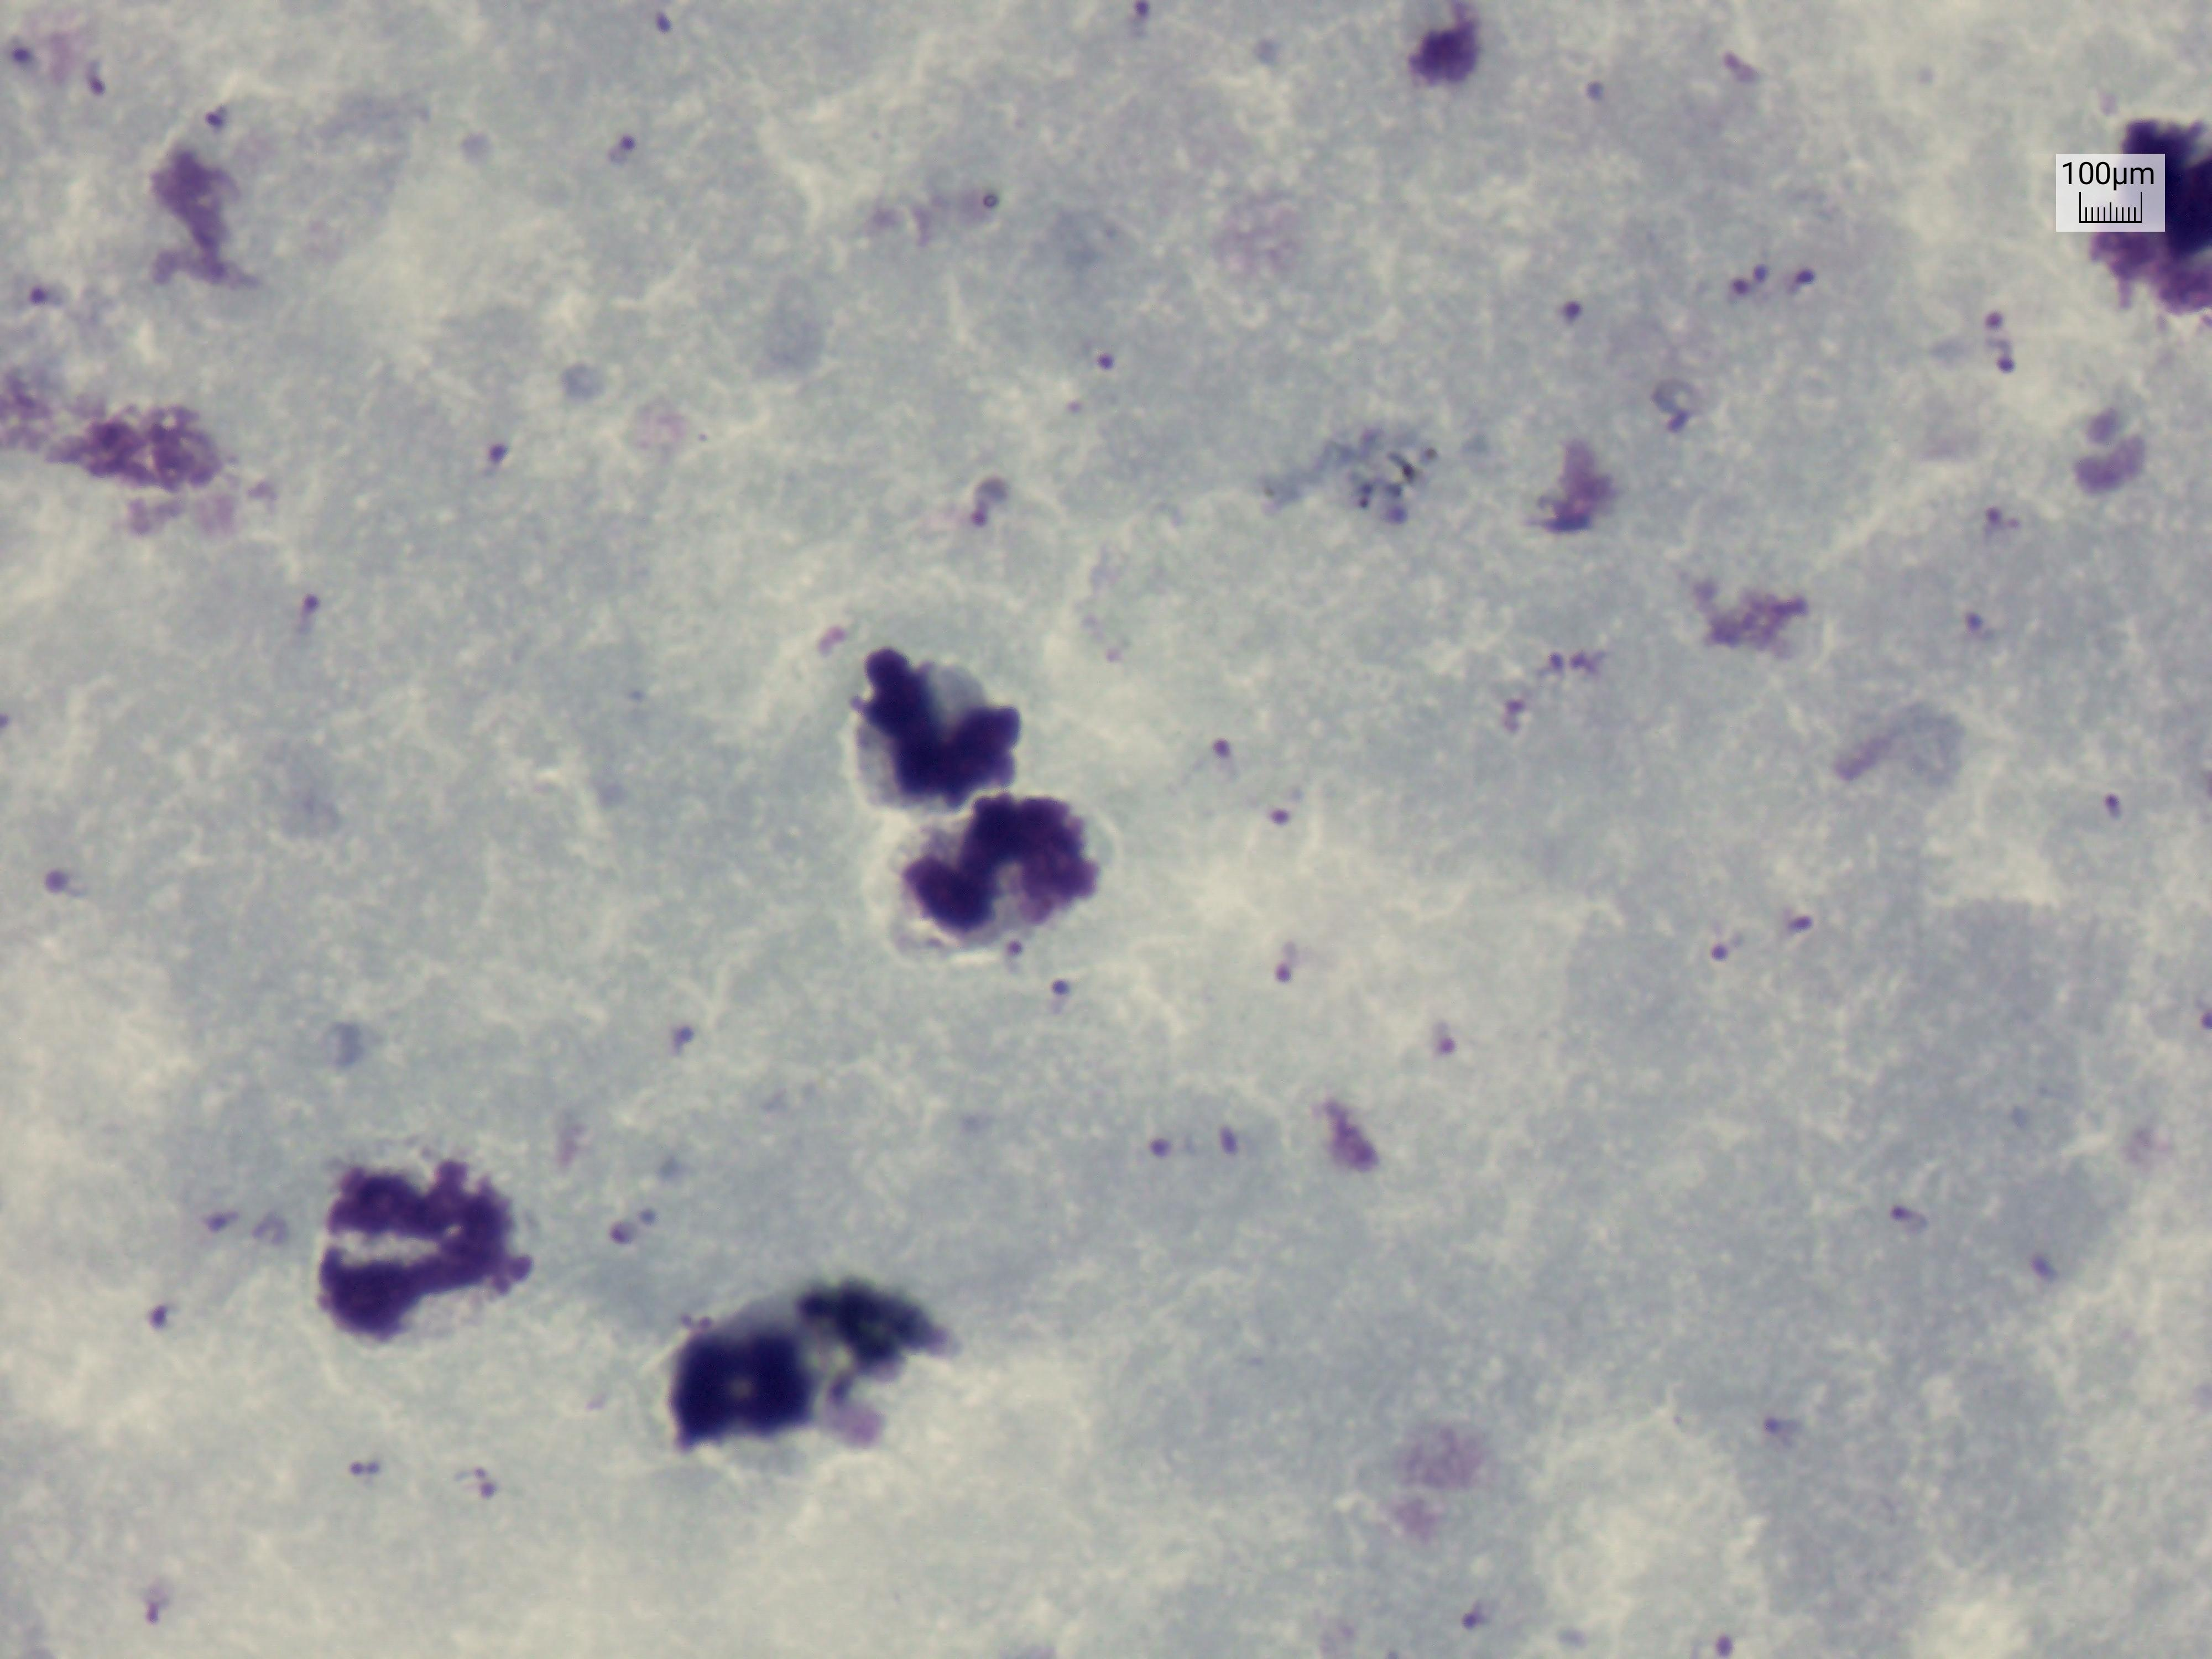p.falciparum: (970, 913, 1104, 1037), (279, 540, 361, 652), (1700, 239, 1834, 307), (1059, 319, 1153, 411), (589, 1173, 683, 1263), (1700, 1565, 1780, 1659), (1646, 335, 1710, 451), (1867, 1162, 1940, 1263), (1458, 678, 1550, 756), (1972, 281, 2034, 396), (1432, 1565, 1515, 1642), (1740, 1385, 1811, 1473), (592, 108, 658, 199), (1977, 479, 2043, 568), (1538, 615, 1608, 699), (961, 139, 1019, 240), (1693, 918, 1754, 1012), (951, 465, 1022, 544), (171, 78, 240, 157), (653, 999, 712, 1087), (456, 1438, 519, 1521), (188, 1176, 260, 1249), (9, 260, 73, 336), (465, 415, 526, 491), (1780, 880, 1829, 976), (1266, 929, 1320, 1012), (2020, 1211, 2064, 1314), (1411, 997, 1467, 1077), (1270, 782, 1318, 871), (1940, 582, 2000, 655), (44, 857, 105, 924), (2094, 769, 2139, 856), (132, 1284, 195, 1347), (1712, 33, 1777, 94), (56, 42, 113, 110), (1148, 1110, 1193, 1194), (1571, 51, 1620, 127), (340, 1441, 395, 1506), (1197, 706, 1237, 789), (1548, 274, 1590, 352), (631, 0, 693, 51), (1106, 0, 1170, 37)
